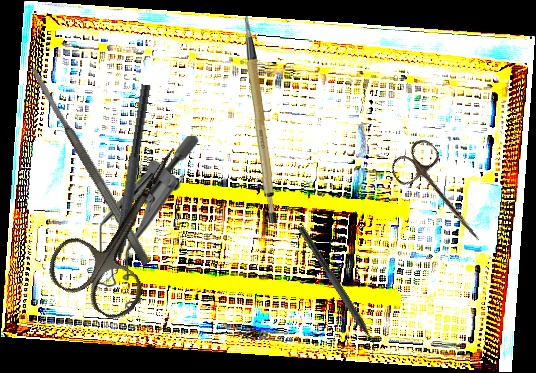Chopper: (289, 225, 385, 360), (98, 82, 152, 288)
Iris Scissors: (39, 123, 217, 327), (386, 134, 500, 256)
Scalpel Handle: (240, 16, 284, 223)
Spatula Surgical: (28, 65, 152, 267)
Speculum: (96, 136, 199, 310)
